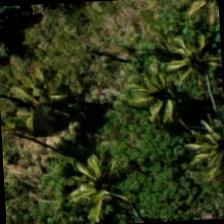Kelapa_Sawit: (120, 44, 214, 140), (46, 134, 141, 223), (142, 9, 224, 103), (142, 70, 223, 165), (2, 143, 94, 223), (170, 110, 223, 204)
